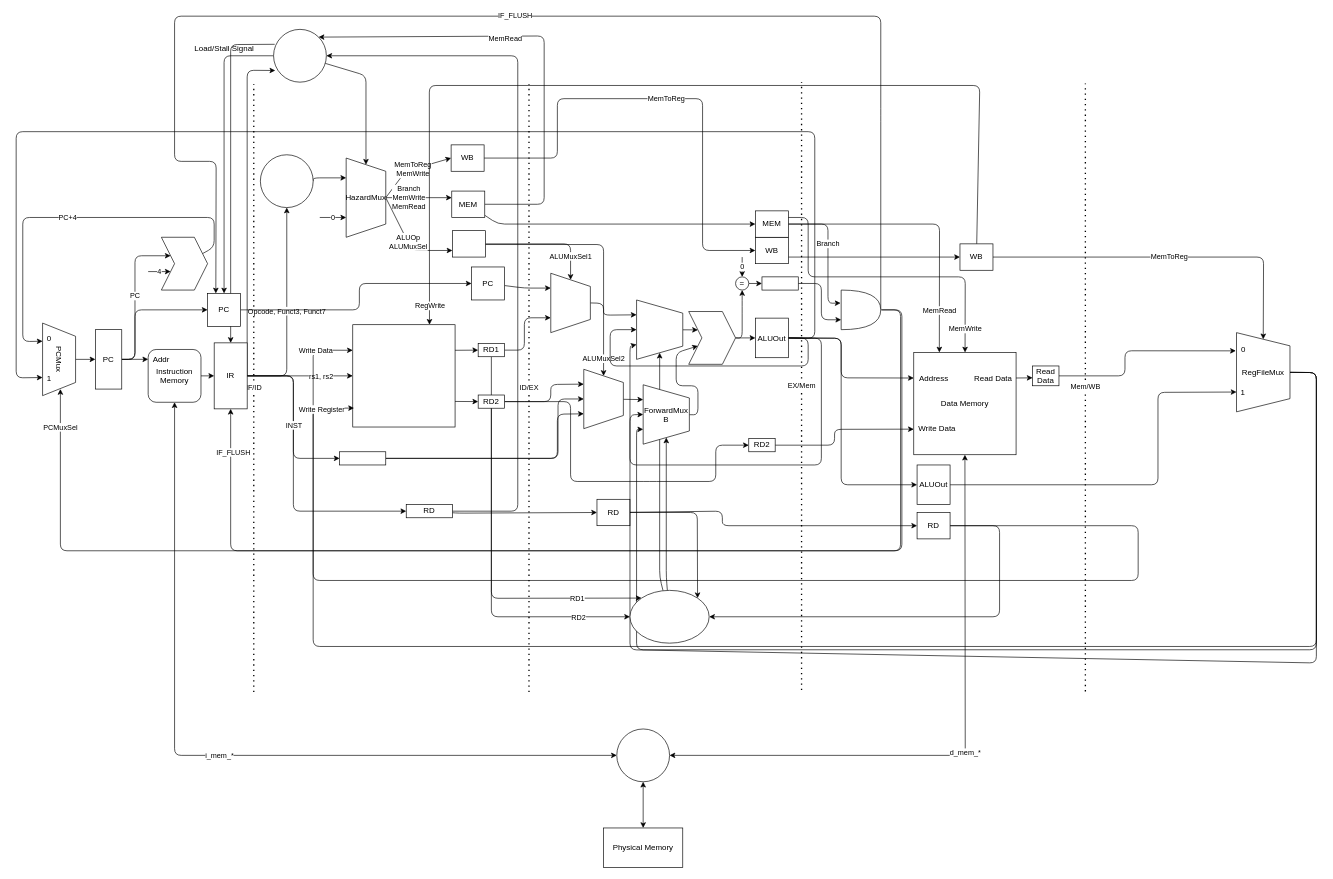
The diagram is 1333 pixels wide and 879 high, and some of its shapes have lost their labels. Here are the shapes that lost their labels. From the top down, the centre of each, then its label:
At point 299,55: "Hazard Detection Unit".
At point 286,181: "Control ROM".
At point 184,263: "ADD".
At point 468,243: "EX".
At point 570,303: "ALU MUX 1".
At point 779,283: "ALUZero".
At point 659,329: "ForwardMux A".
At point 712,337: "ALU & CMP".
At point 403,375: "Register File".
At point 603,399: "ALU MUX 2".
At point 362,458: "imm_*".
At point 669,616: "Forwarding Unit".
At point 643,755: "Arbiter".
